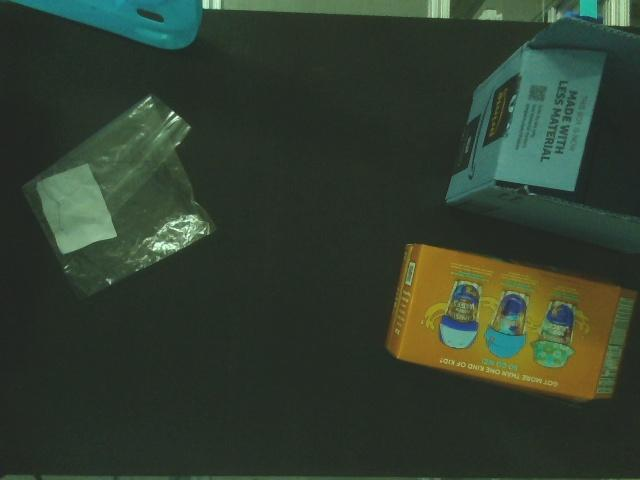cardboard: (443, 9, 640, 260), (382, 238, 640, 406)
plastic: (16, 90, 222, 306)
